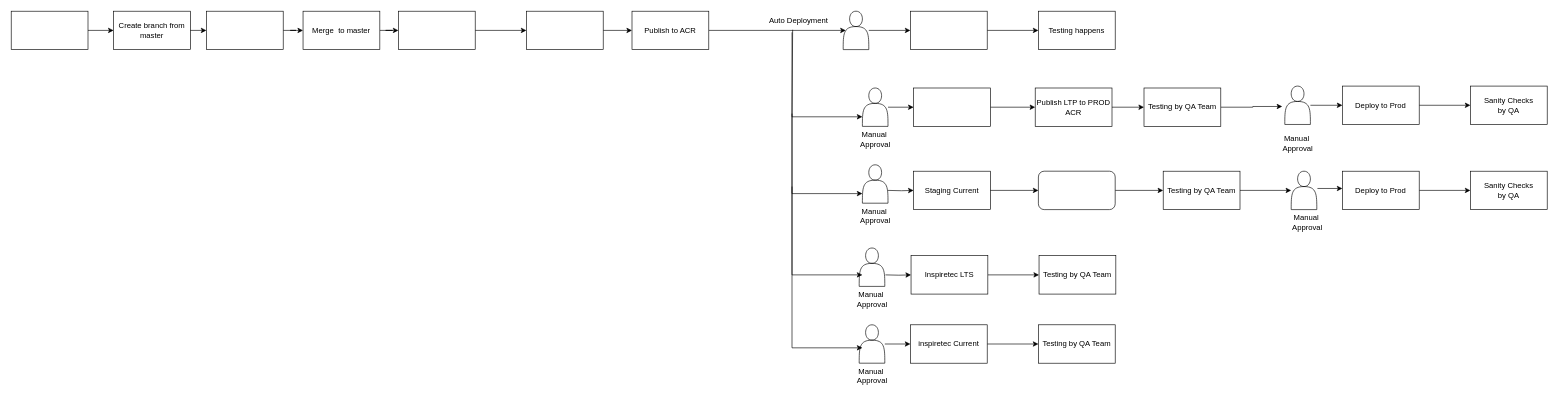
Some shapes in this 1558 by 400 pixel diagram are drawn without their labels. The centre of each missing label's shape, as x and y in pixels:
Build: (436,30)
code: (244,30)
Deploy to QA (funky Chicken): (948,30)
Publish Current to PROD ACR: (1076,190)
Staging LTS: (951,106)
Unit Test: (564,30)
User Story: (49,30)
